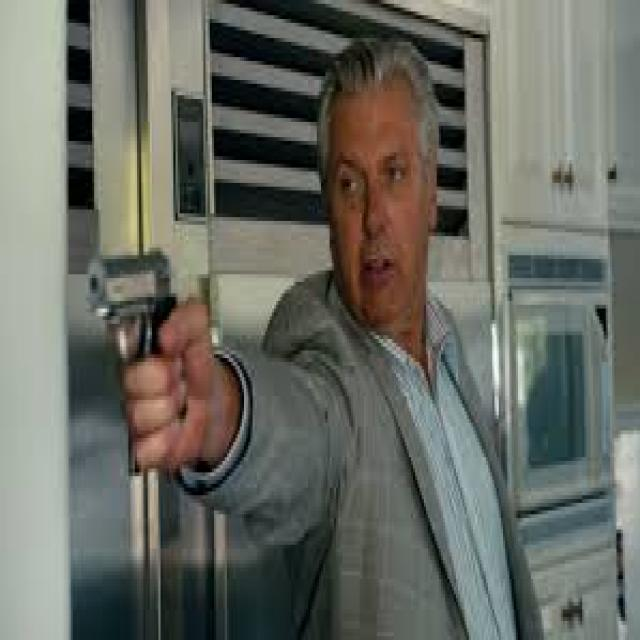gun: (72, 239, 218, 472)
